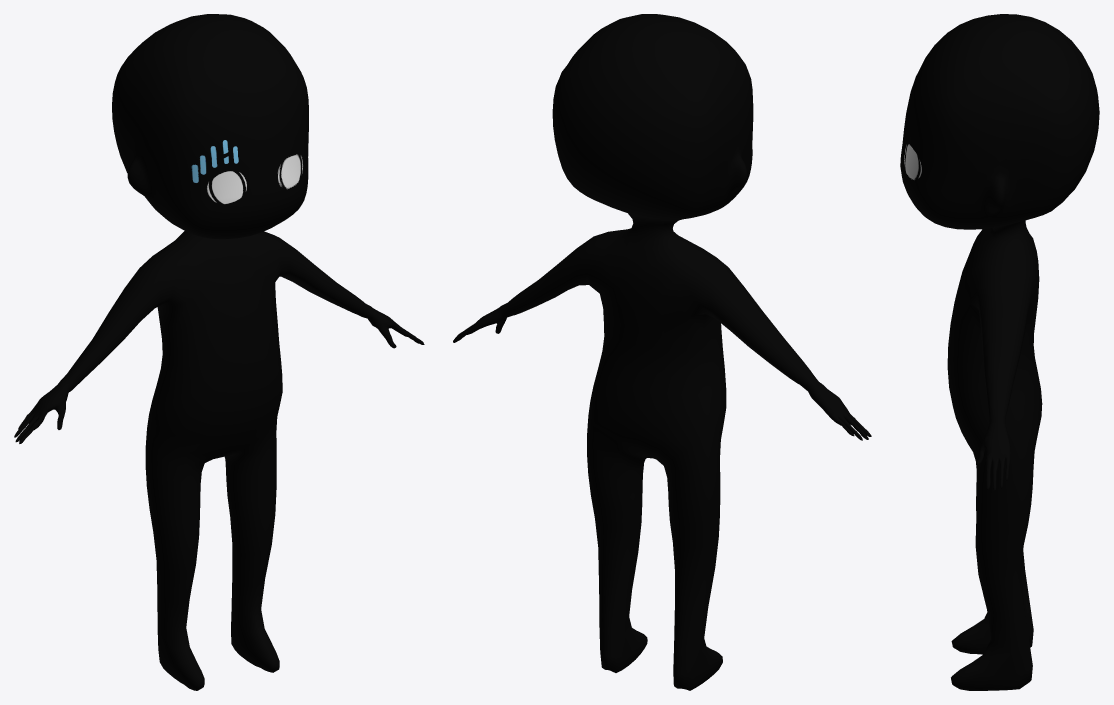
The picture shows the model from 3 angles, left to right: view 1: azimuth 30°, elevation 25°; view 2: azimuth 150°, elevation 25°; view 3: azimuth 270°, elevation 25°; orthographic projection.
Parts seen in each view (by area): view 1: BODY_0; view 2: BODY_0; view 3: BODY_0.
Boxes of the visible parts, x1,y1,x2,y2 form: BODY_0: (14, 14, 424, 690); BODY_0: (453, 14, 871, 690); BODY_0: (900, 14, 1099, 690).
Size of the model in its own units: 14.06 by 21.28 by 5.93.
Materials: 1 (1 with a texture image).
